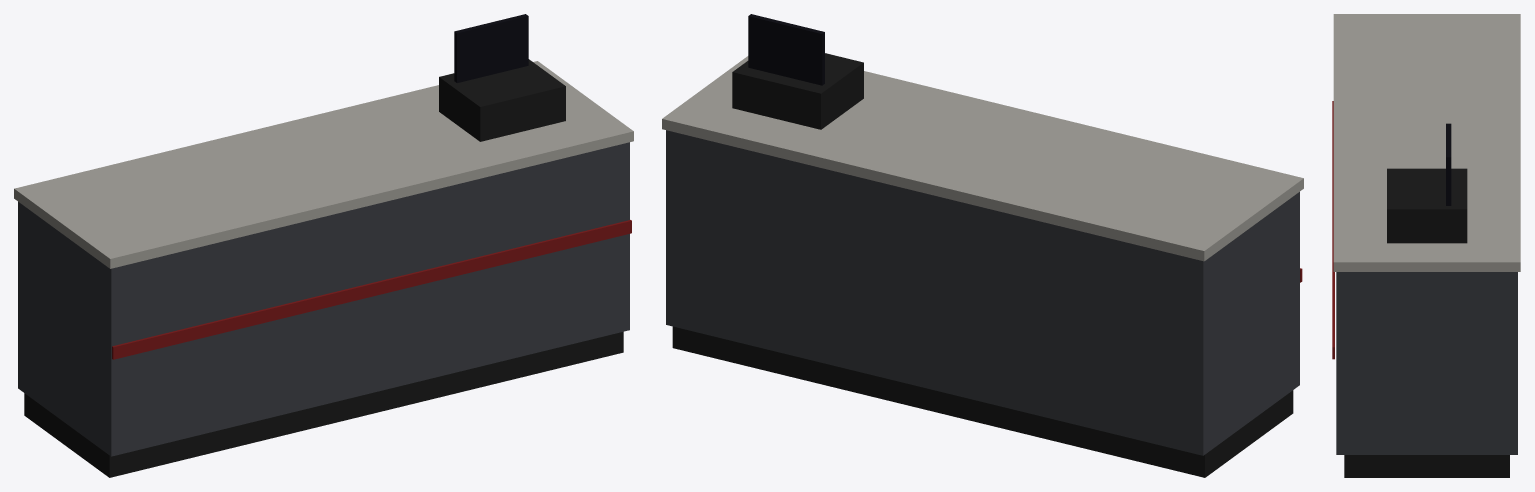
Rendered from counter_220_90_70.glb.
3 views of the same model, side by side, from view 1: azimuth 30°, elevation 25°; view 2: azimuth 150°, elevation 25°; view 3: azimuth 270°, elevation 25° (orthographic). The views are drawn at different scales.
Parts seen in each view (by area): view 1: counter_220_90_70; view 2: counter_220_90_70; view 3: counter_220_90_70.
Boxes of the visible parts, x1,y1,x2,y2 form: counter_220_90_70: [14, 14, 633, 477]; counter_220_90_70: [662, 14, 1303, 477]; counter_220_90_70: [1332, 14, 1520, 477].
Size of the model in its own units: 2.2 by 1.24 by 0.705.
